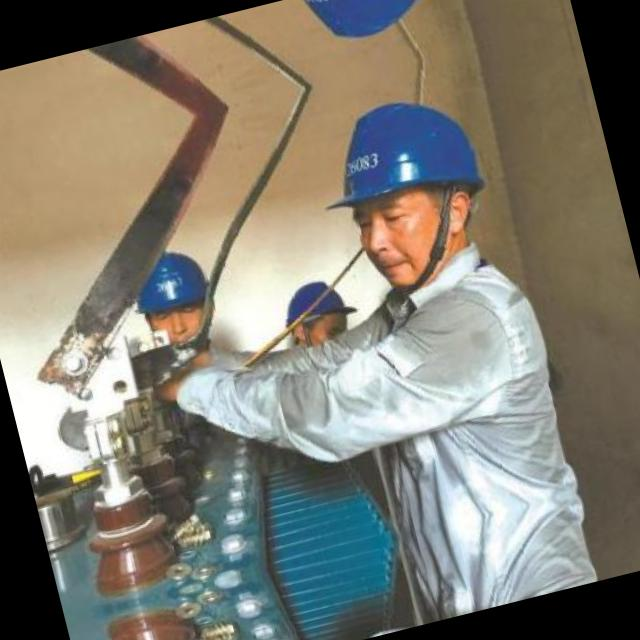helmet: (291, 72, 509, 308), (119, 239, 229, 362), (263, 0, 451, 70), (266, 267, 362, 364)
